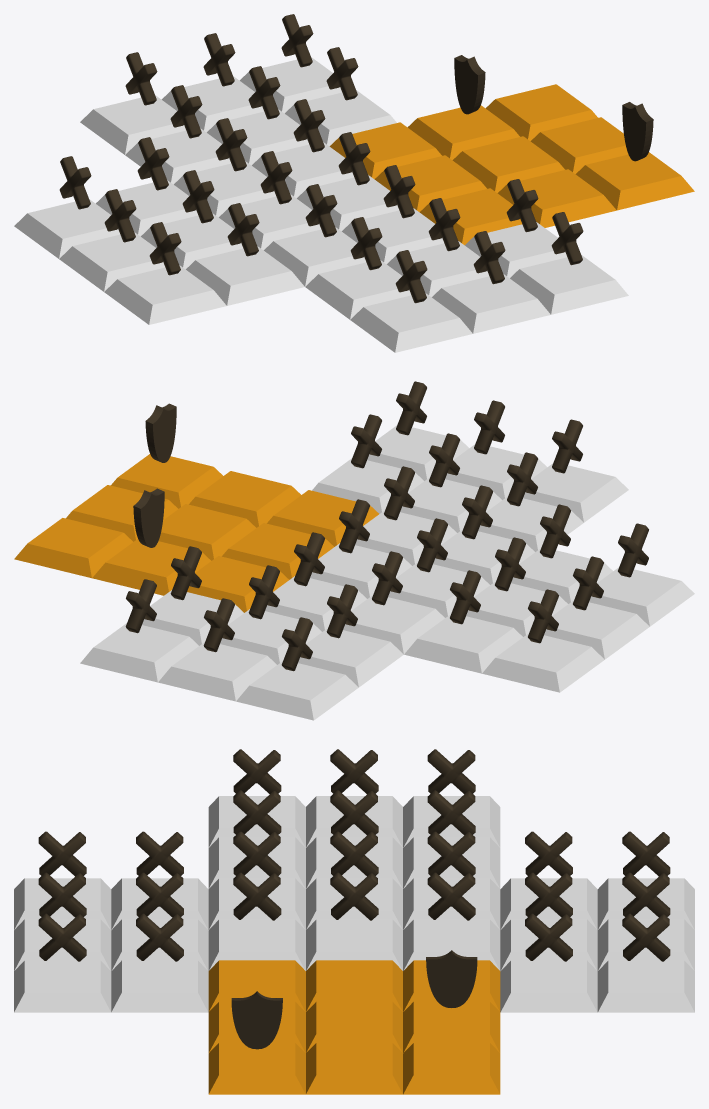
File: el_asalto.glb
3 views of the same model, one above another, from view 1: azimuth 30°, elevation 25°; view 2: azimuth 150°, elevation 25°; view 3: azimuth 270°, elevation 25° (orthographic). The views are drawn at different scales.
Parts seen in each view (by area): view 1: Plane.025, Plane.016, Plane.022, Plane.024, Plane.018, Plane.002, Plane.014, Plane.003, Plane.015, Plane.026, Plane.019, Plane.032 (+47 smaller); view 2: Plane.019, Plane.032, Plane.014, Plane.027, Plane.029, Plane.020, Plane.009, Plane.031, Plane.015, Plane.016, Plane.025, Plane.003 (+47 smaller); view 3: Plane.029, Plane.014, Plane.024, Plane.023, Plane.030, Plane.011, Plane.002, Plane.001, Plane.003, Plane.010, Plane, Plane.008 (+47 smaller).
Boxes of the visible parts, left/top/right/bottom form: Plane.025: left=350, top=293, right=472, bottom=352; Plane.016: left=104, top=265, right=226, bottom=324; Plane.022: left=432, top=274, right=550, bottom=333; Plane.024: left=510, top=255, right=628, bottom=314; Plane.018: left=186, top=246, right=304, bottom=305; Plane.002: left=575, top=152, right=694, bottom=210; Plane.014: left=485, top=84, right=597, bottom=140; Plane.003: left=452, top=136, right=564, bottom=192; Plane.015: left=59, top=232, right=165, bottom=291; Plane.026: left=305, top=260, right=410, bottom=319; Plane.019: left=14, top=199, right=120, bottom=258; Plane.032: left=80, top=95, right=186, bottom=154; Plane.019: left=482, top=633, right=604, bottom=692; Plane.032: left=236, top=661, right=358, bottom=720; Plane.014: left=14, top=518, right=132, bottom=578; Plane.027: left=158, top=642, right=276, bottom=701; Plane.029: left=80, top=623, right=198, bottom=682; Plane.020: left=404, top=614, right=522, bottom=673; Plane.009: left=189, top=471, right=300, bottom=527; Plane.031: left=298, top=628, right=403, bottom=687; Plane.015: left=544, top=600, right=649, bottom=659; Plane.016: left=589, top=567, right=694, bottom=626; Plane.025: left=523, top=463, right=628, bottom=522; Plane.003: left=158, top=504, right=255, bottom=560; Plane.029: left=597, top=960, right=694, bottom=1012; Plane.014: left=403, top=1042, right=500, bottom=1094; Plane.024: left=14, top=960, right=111, bottom=1012; Plane.023: left=111, top=960, right=208, bottom=1012; Plane.030: left=500, top=960, right=597, bottom=1012; Plane.011: left=306, top=1042, right=402, bottom=1094; Plane.002: left=208, top=1042, right=305, bottom=1094; Plane.001: left=208, top=919, right=305, bottom=970; Plane.003: left=306, top=1001, right=402, bottom=1052; Plane.010: left=306, top=960, right=402, bottom=1011; Plane: left=306, top=919, right=402, bottom=970; Plane.008: left=403, top=1001, right=500, bottom=1053.
Size of the model in its own units: 14 by 1.94 by 14.
